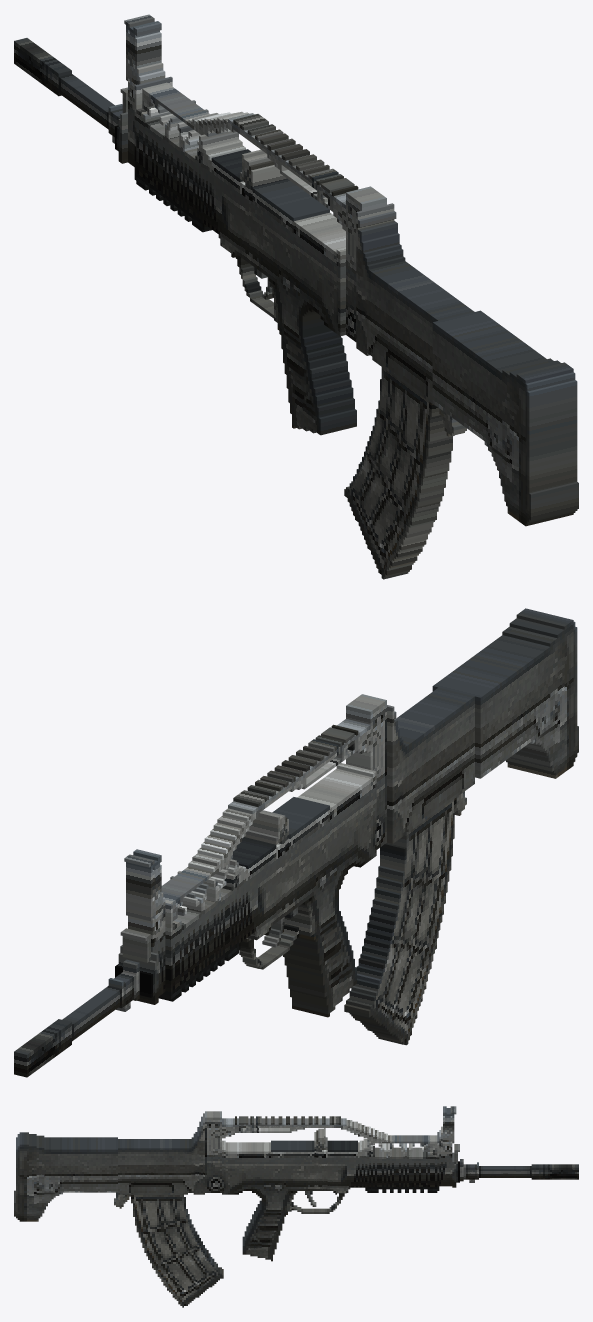
3 renders of one model, top to bottom at view 1: azimuth 30°, elevation 25°; view 2: azimuth 150°, elevation 25°; view 3: azimuth 270°, elevation 25°, orthographic. The views are drawn at different scales.
Visible parts, largest first — view 1: download (1)_97, download (1)_96, download (1)_98, download (1)_108, download (1)_114, download (1)_154, download (1)_106, download (1)_7, download (1)_75, download (1)_217, download (1)_125, download (1)_128 (+18 smaller); view 2: download (1)_97, download (1)_96, download (1)_114, download (1)_108, download (1)_154, download (1)_7, download (1)_106, download (1)_75, download (1)_125, download (1)_217, download (1)_90, download (1)_82 (+22 smaller); view 3: download (1)_97, download (1)_96, download (1)_114, download (1)_108, download (1)_154, download (1)_106, download (1)_7, download (1)_217, download (1)_75, download (1)_118, download (1)_125, download (1)_90 (+10 smaller).
Boxes of the visible parts, <box> form: download (1)_97: <box>432,310,546,453</box>; download (1)_96: <box>368,261,474,400</box>; download (1)_98: <box>527,380,577,522</box>; download (1)_108: <box>252,179,329,295</box>; download (1)_114: <box>293,212,345,326</box>; download (1)_154: <box>381,367,449,476</box>; download (1)_106: <box>211,149,251,249</box>; download (1)_7: <box>346,186,386,341</box>; download (1)_75: <box>516,362,573,526</box>; download (1)_217: <box>381,445,436,525</box>; download (1)_125: <box>14,38,71,96</box>; download (1)_128: <box>58,73,114,129</box>; download (1)_97: <box>432,635,550,778</box>; download (1)_96: <box>395,687,474,831</box>; download (1)_114: <box>297,768,372,882</box>; download (1)_108: <box>272,797,329,912</box>; download (1)_154: <box>387,803,449,911</box>; download (1)_7: <box>346,694,386,849</box>; download (1)_106: <box>232,837,276,936</box>; download (1)_75: <box>516,608,573,771</box>; download (1)_125: <box>14,1019,71,1077</box>; download (1)_217: <box>406,890,436,970</box>; download (1)_90: <box>502,626,557,766</box>; download (1)_82: <box>509,618,564,776</box>; download (1)_97: <box>44,1137,117,1192</box>; download (1)_96: <box>118,1139,191,1192</box>; download (1)_114: <box>225,1142,270,1190</box>; download (1)_108: <box>271,1140,314,1190</box>; download (1)_154: <box>138,1194,183,1237</box>; download (1)_106: <box>327,1140,357,1187</box>; download (1)_7: <box>205,1111,221,1192</box>; download (1)_217: <box>152,1237,183,1268</box>; download (1)_75: <box>19,1132,28,1221</box>; download (1)_118: <box>407,1147,427,1189</box>; download (1)_125: <box>531,1164,578,1179</box>; download (1)_90: <box>36,1135,44,1213</box>.
Bounding box in the file's own units: 0.0517 × 0.38 × 0.9967.
Materials: 1 (1 with a texture image).
